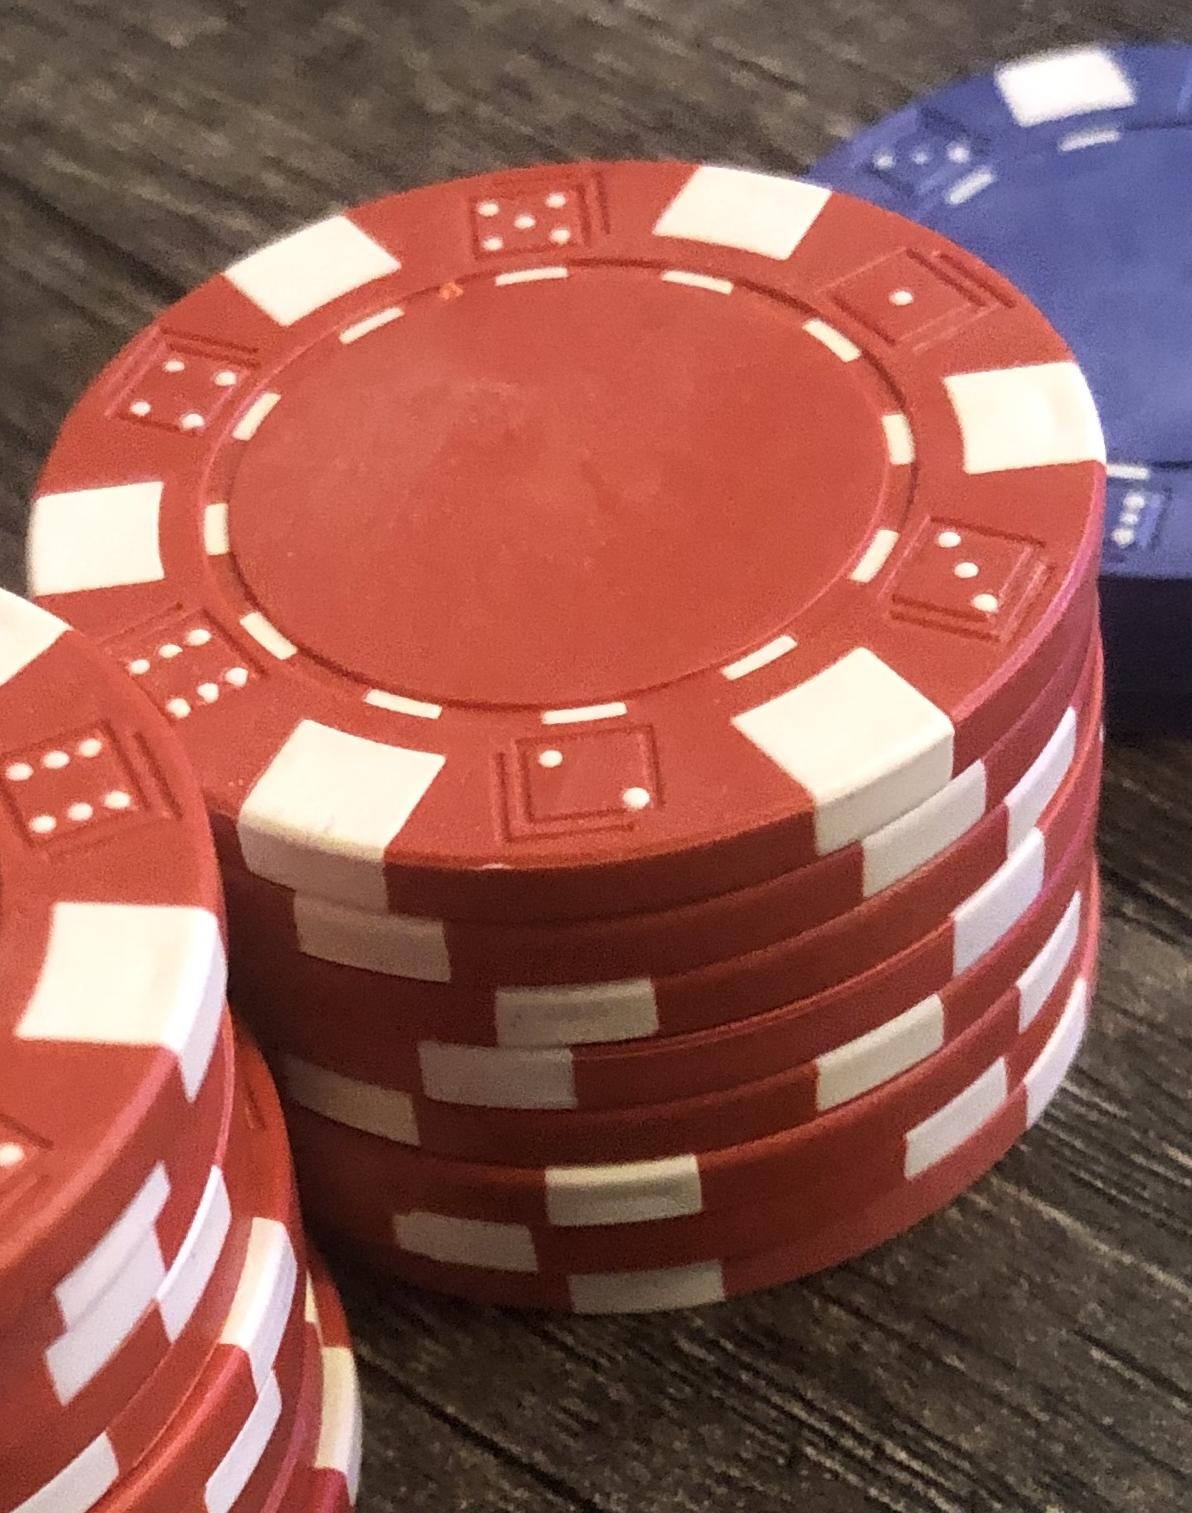Chip: (1, 1, 1192, 1513)
